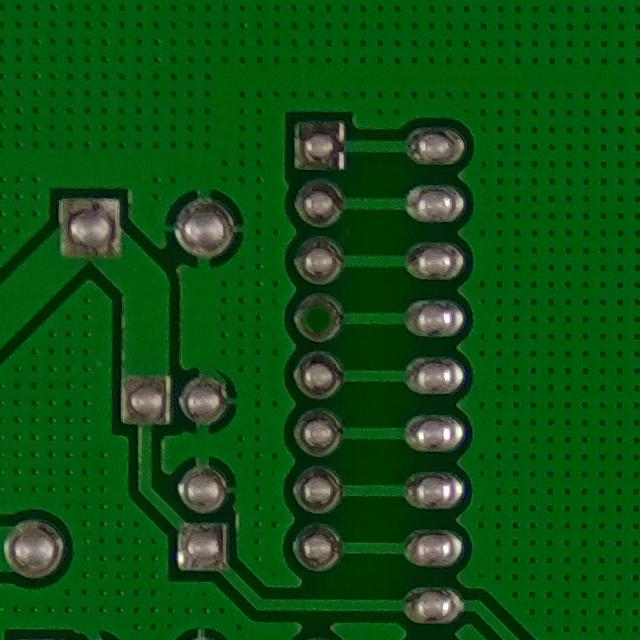missing_hole: (286, 284, 349, 347)
